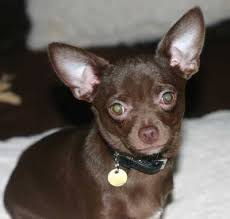chihuahua: (20, 1, 205, 201)
